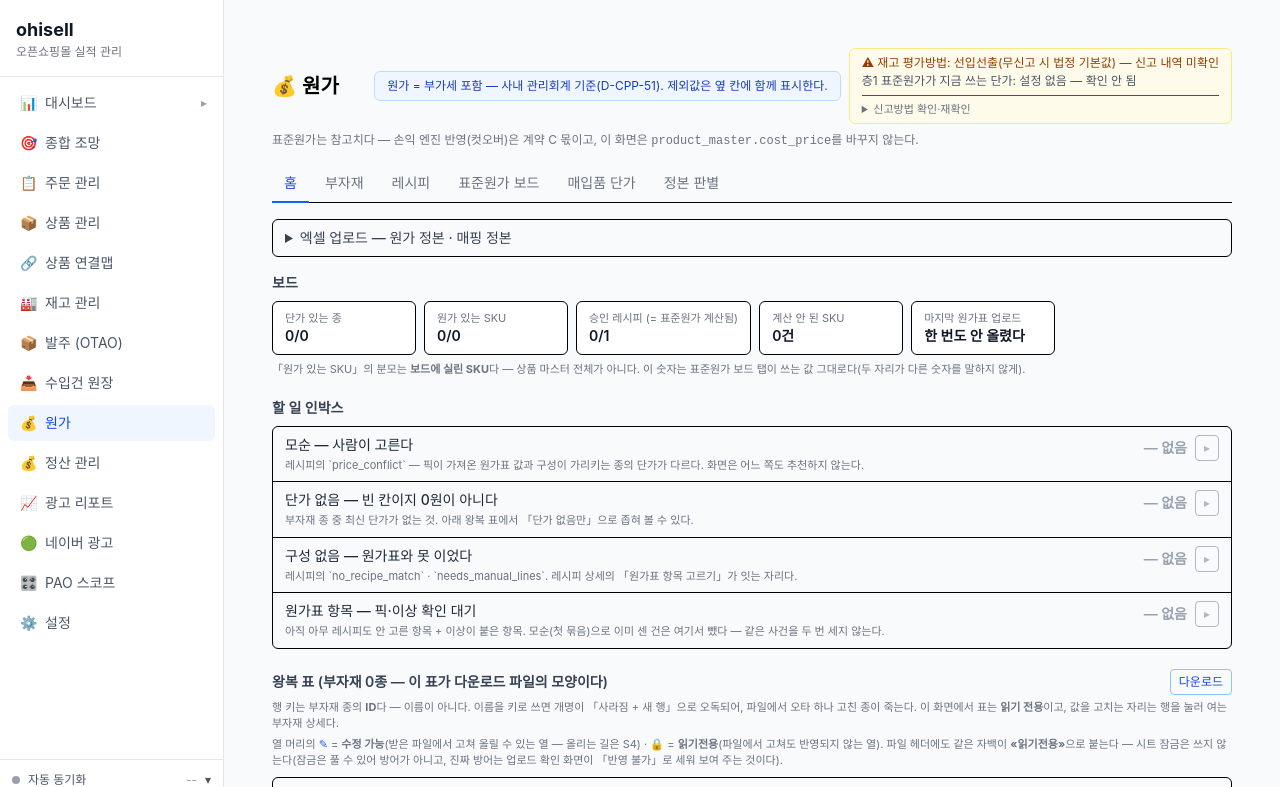
★원가표 픽이 사람에게 닿는 경로 — 라우트·페이지·호출부가 한 줄로 이어진다 › ★P1-1: 핀이 끊긴 상태에서 「원가표에 없음 — 확인」 버튼이 **뜬다**
This screenshot has width=1280, height=787.
Check: the heading "💰 원가" is shown, box [272,72,339,100]
Click the button "레시피": [411, 184] box [380,165,442,203]
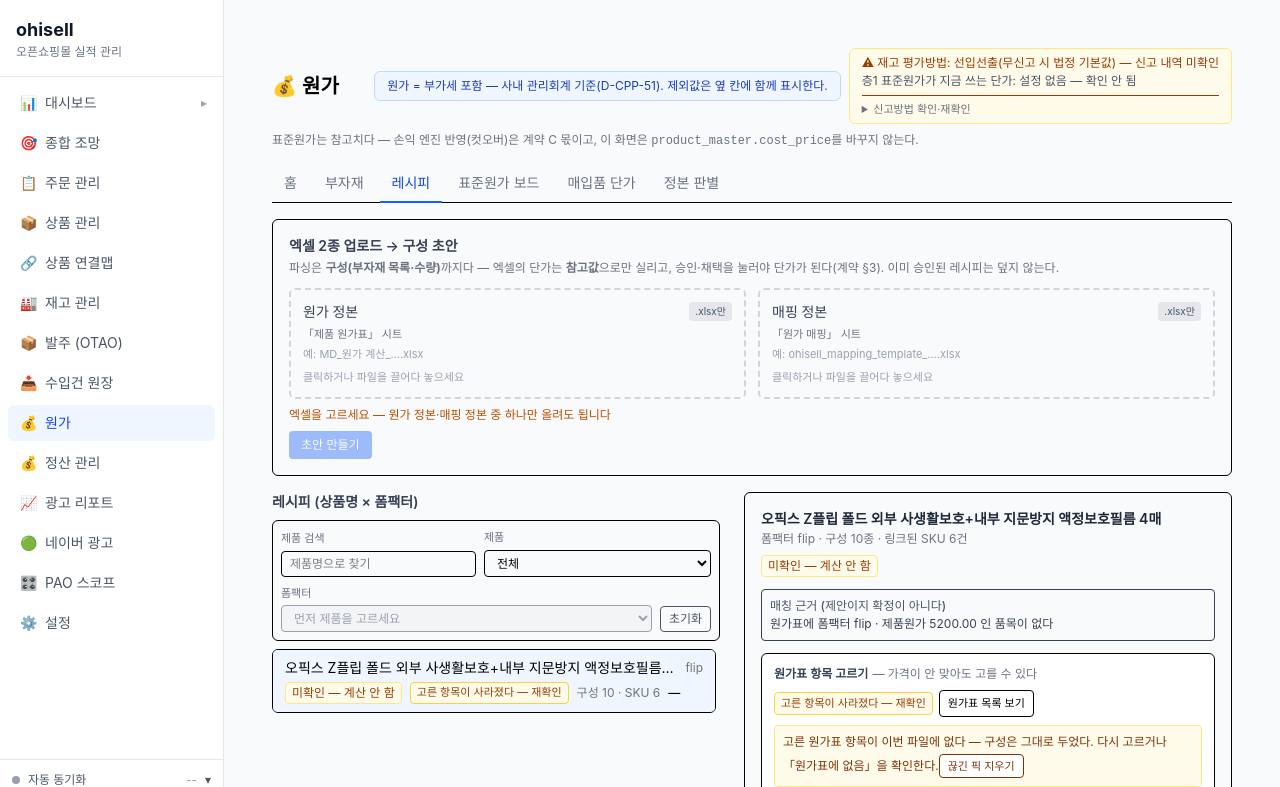
Click the button with test id "picker-load": [986, 703] box [939,690,1034,717]
(page scrolled)
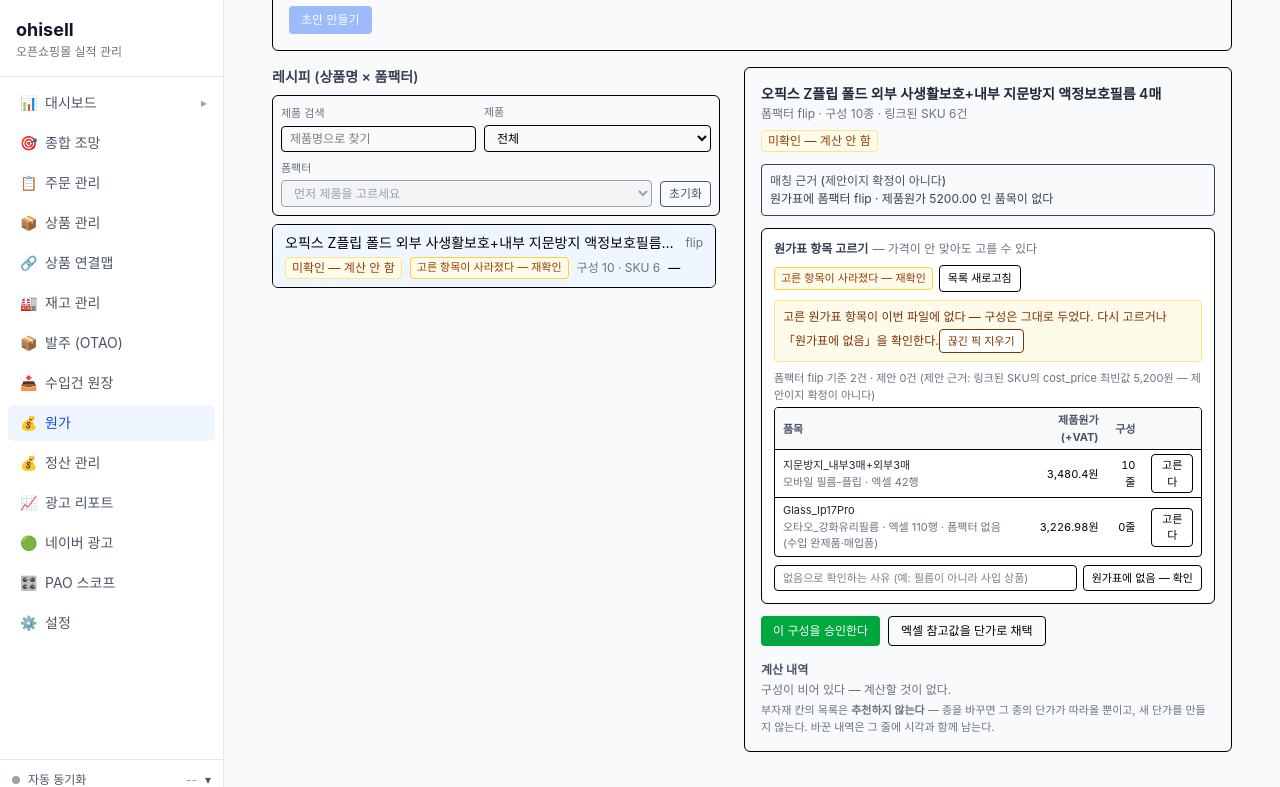
Check: the button with test id "picker-absent" is shown, box [1083,565,1202,591]
